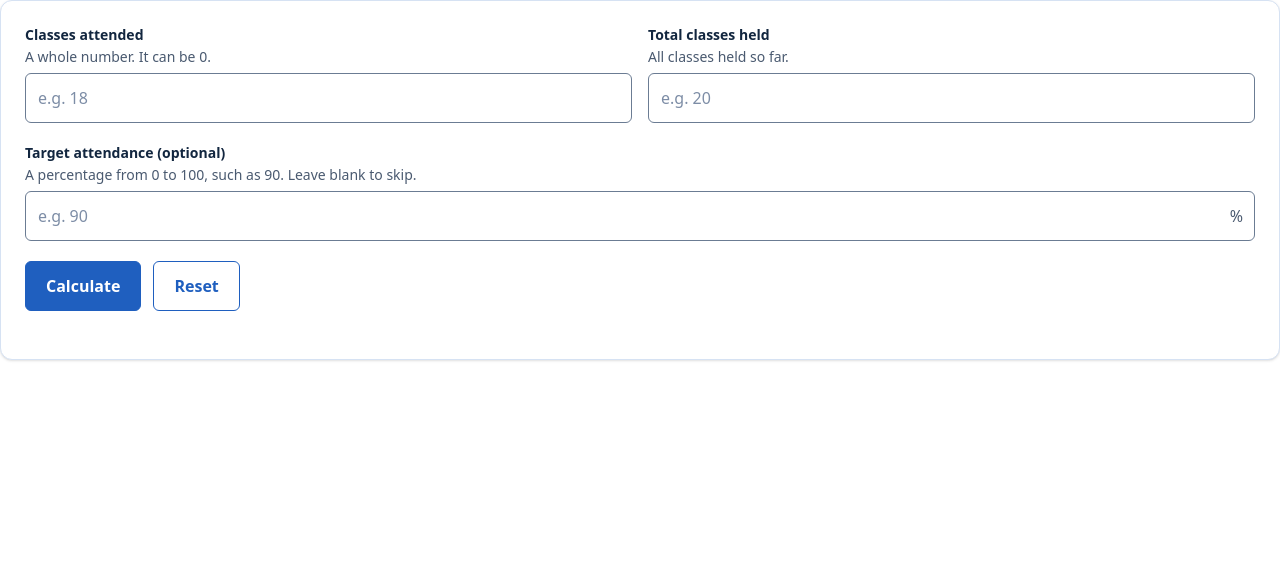
it: AttendanceCalculator › accepts 0 classes attended as valid
Type "0" into the field labelled "Classes attended".
click(328, 98); type("0")  # box [25, 73, 632, 123]
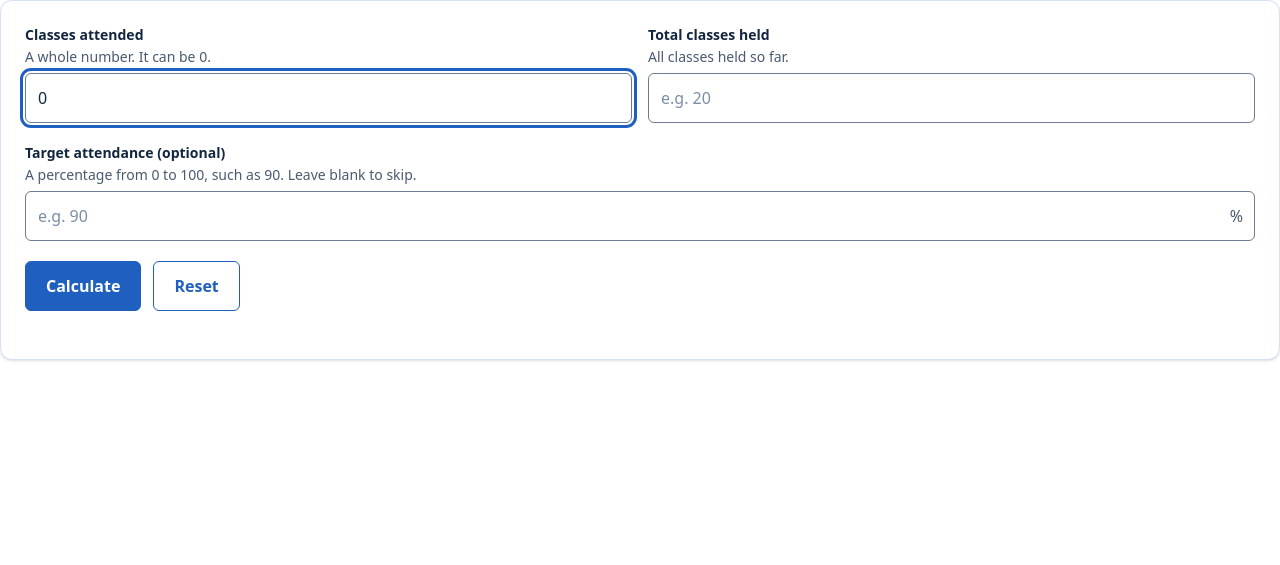
Type "10" into the field labelled "Total classes held".
click(952, 98); type("10")  # box [648, 73, 1255, 123]
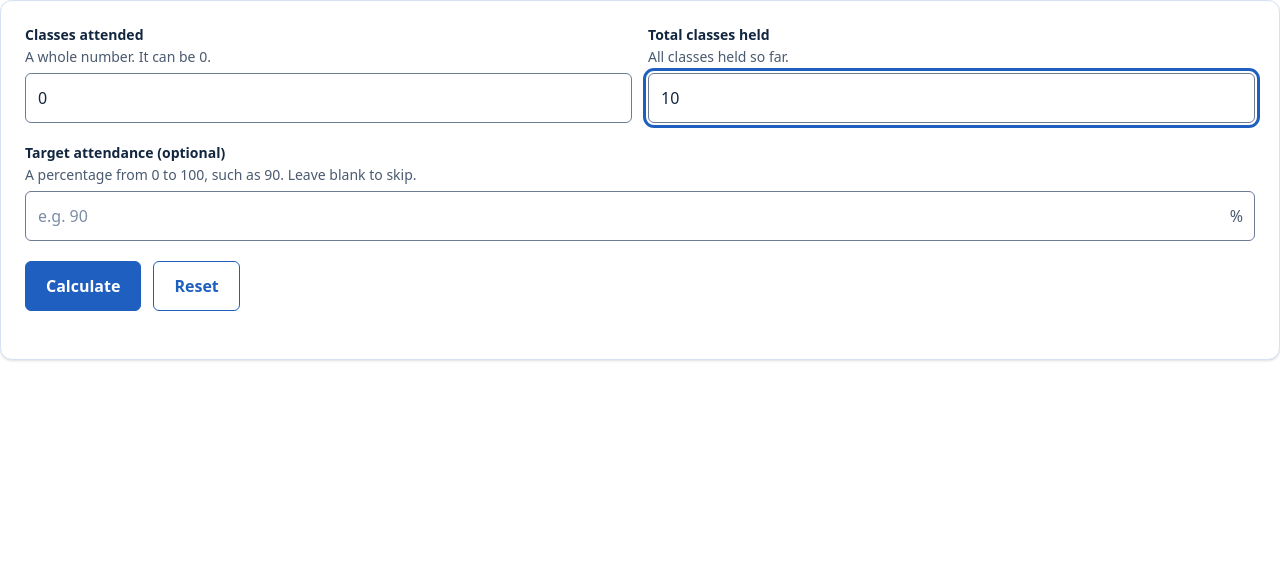
Click the button "Calculate".
click(83, 286)  # box [25, 261, 141, 311]
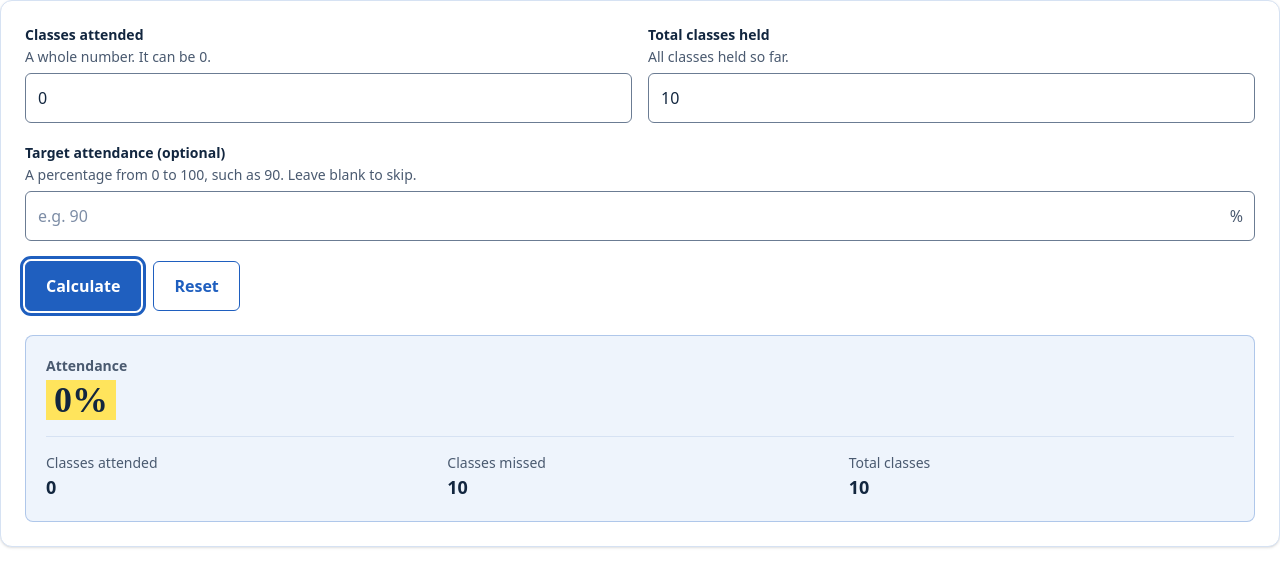
Now the text "0%" is shown, box [46, 380, 116, 420]
Now the text "10" below "Classes missed" is shown, box [447, 475, 468, 499]
